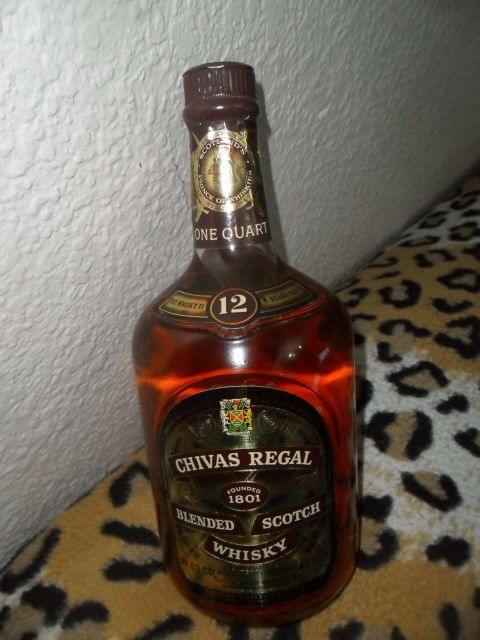Chivas Regal: (121, 55, 367, 631)
